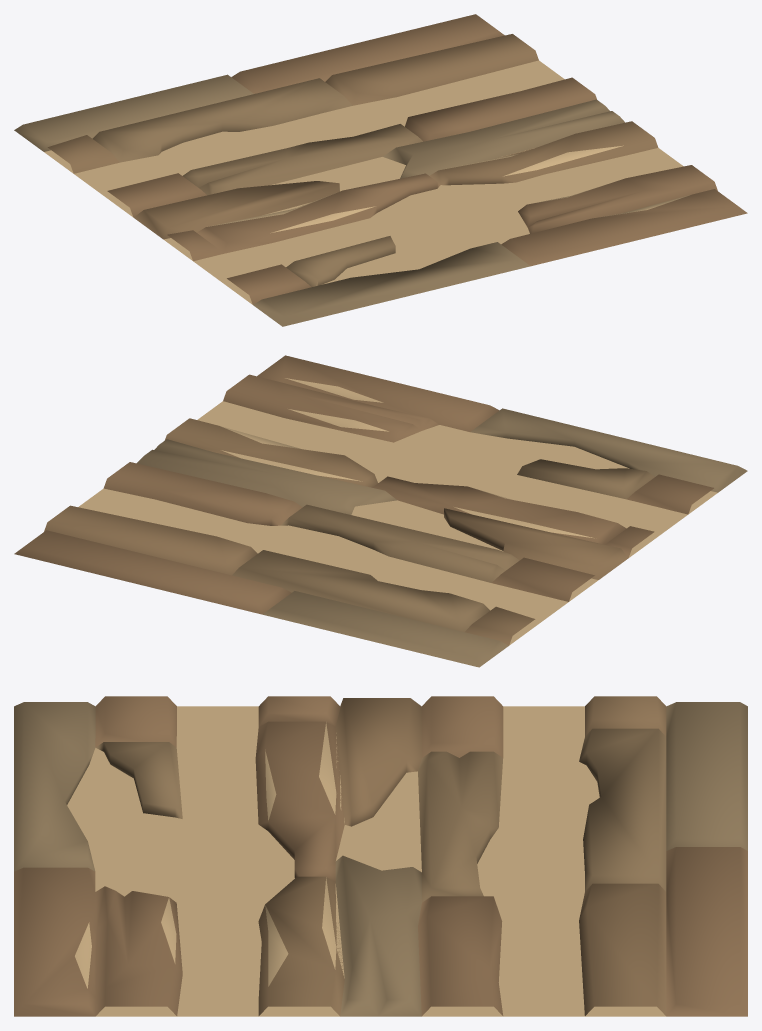
Rendered from rpgpp_av_floor_01d_3x3.gltf.
The picture shows the model from 3 angles, top to bottom: view 1: azimuth 30°, elevation 25°; view 2: azimuth 150°, elevation 25°; view 3: azimuth 270°, elevation 25°; orthographic projection. The views are drawn at different scales.
Visible parts, largest first — view 1: rpgpp_av_floor_01d_3x3; view 2: rpgpp_av_floor_01d_3x3; view 3: rpgpp_av_floor_01d_3x3.
Part boxes in pixels (x1,y1,x2,y2): rpgpp_av_floor_01d_3x3: [14, 14, 747, 326]; rpgpp_av_floor_01d_3x3: [14, 355, 747, 667]; rpgpp_av_floor_01d_3x3: [14, 696, 747, 1016].
Size of the model in its own units: 0.03 by 0.000584 by 0.03.
Materials: 1 (1 with a texture image).
